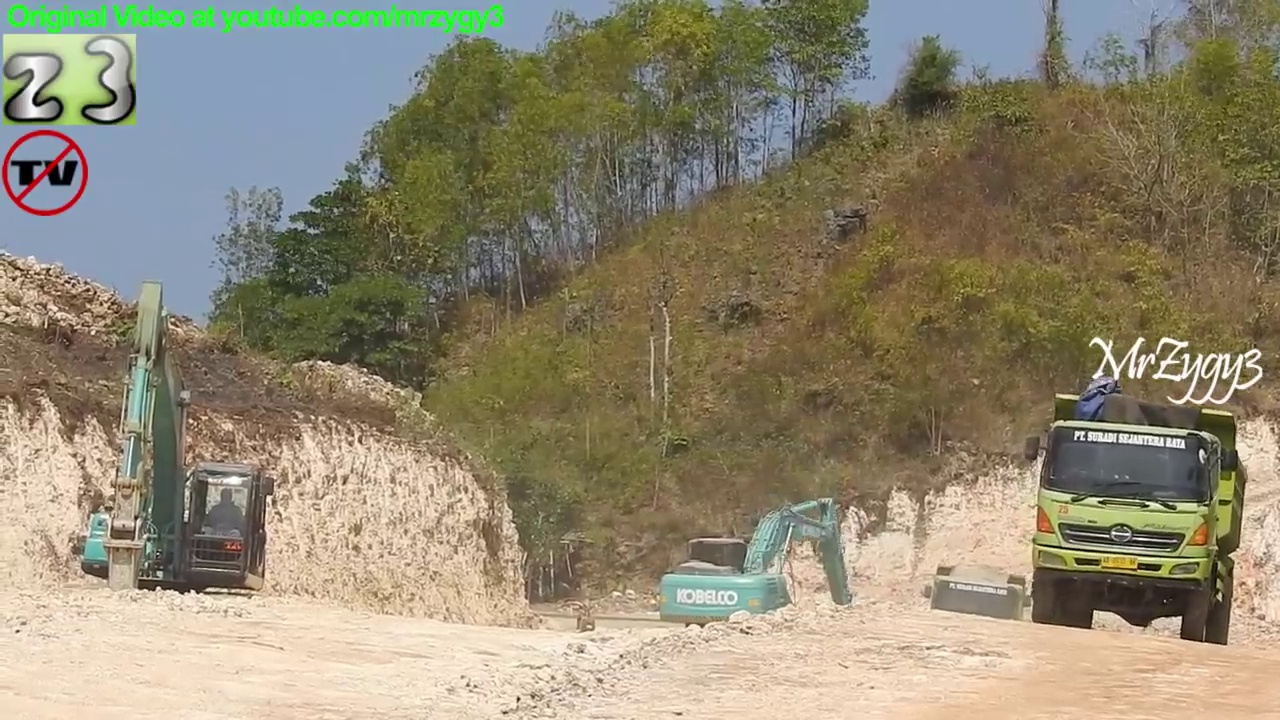excavator: (78, 276, 282, 641), (654, 492, 865, 665)
truck: (1020, 388, 1254, 651), (917, 558, 1038, 671)
